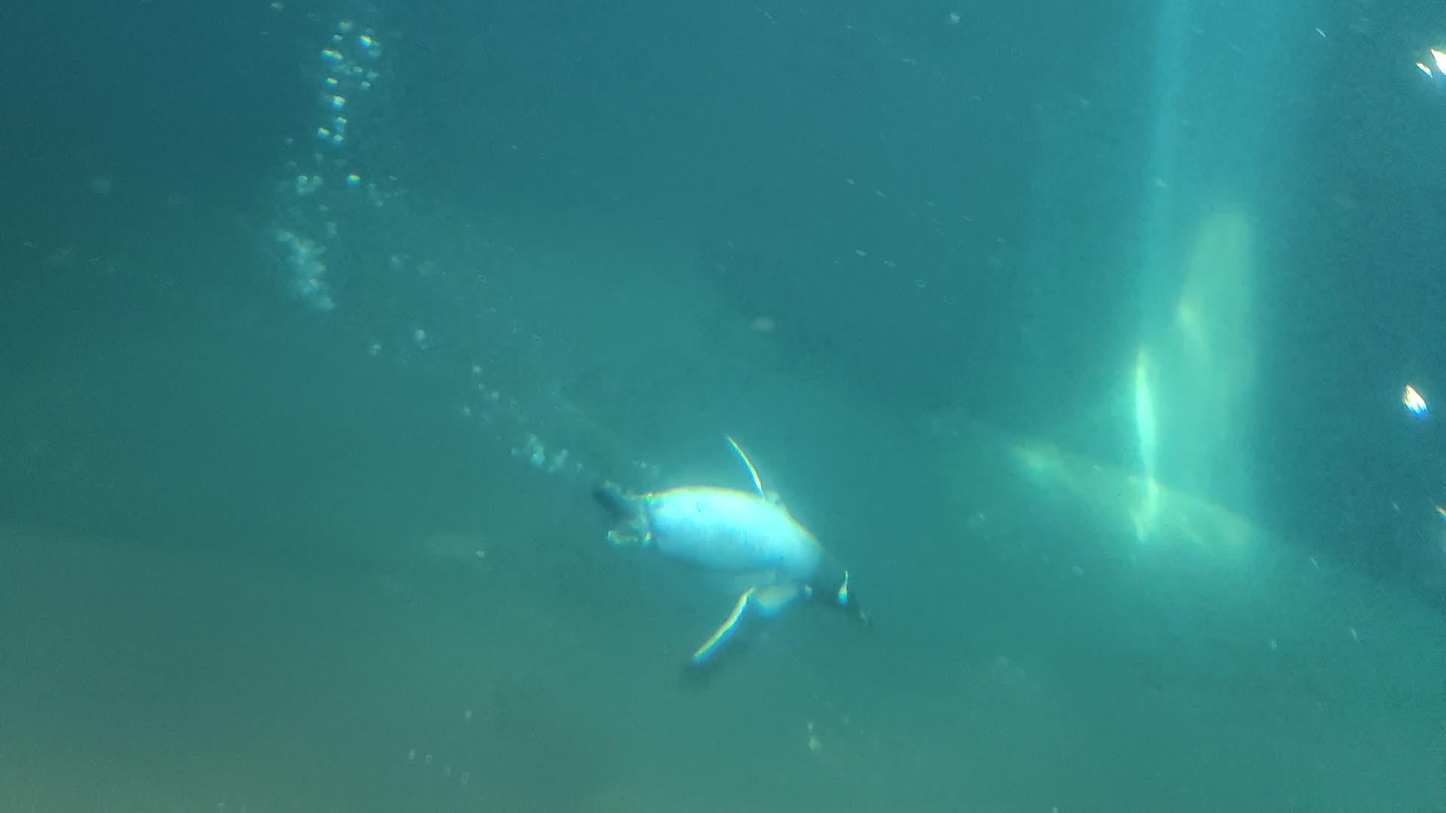apple: (591, 434, 871, 678)
